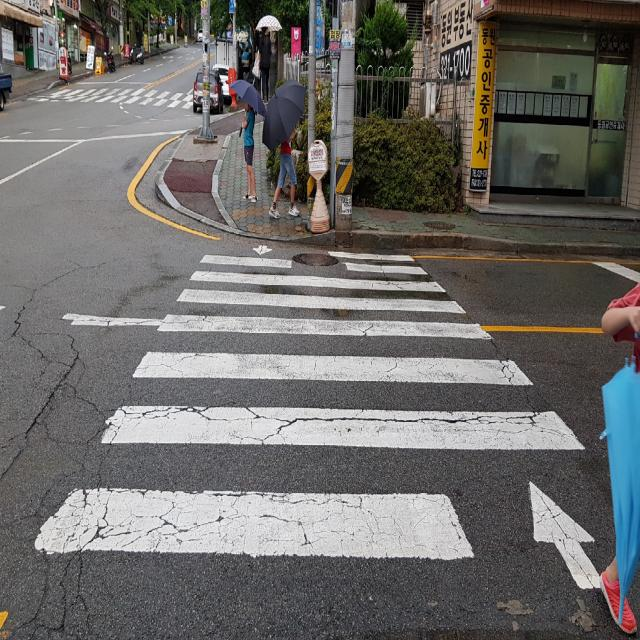횡단보도: (33, 246, 601, 589), (39, 85, 189, 113)
